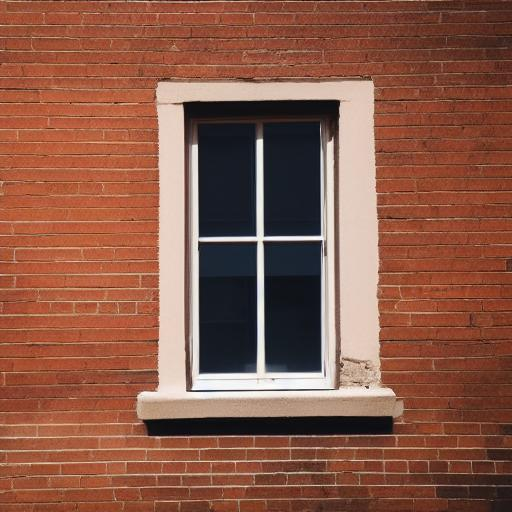Window: (136, 76, 407, 422)
